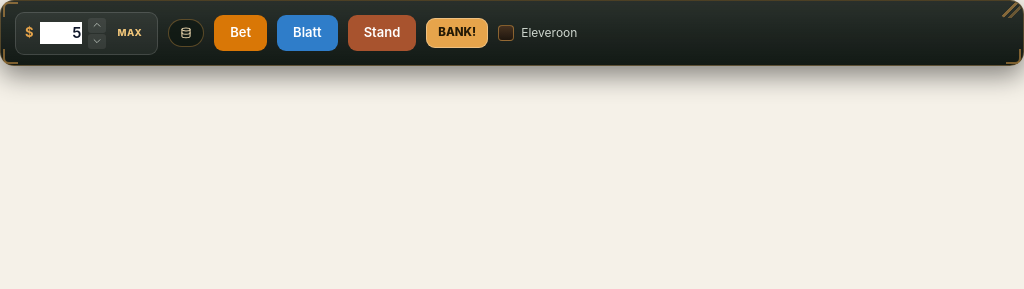
PlayerDock quick-bet chips › mixes denominations the way real chips do
Click the button named "Quick-bet amounts".
click(186, 33)  # box [168,19,204,47]
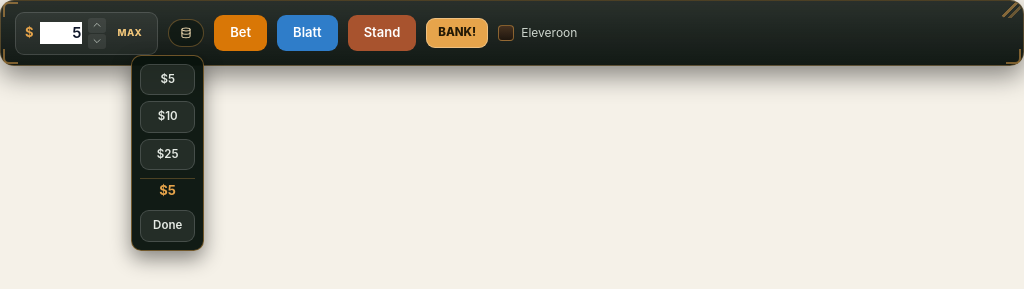
Click the menu item named "Add $25 to the bet".
click(168, 154)  # box [140,138,195,170]
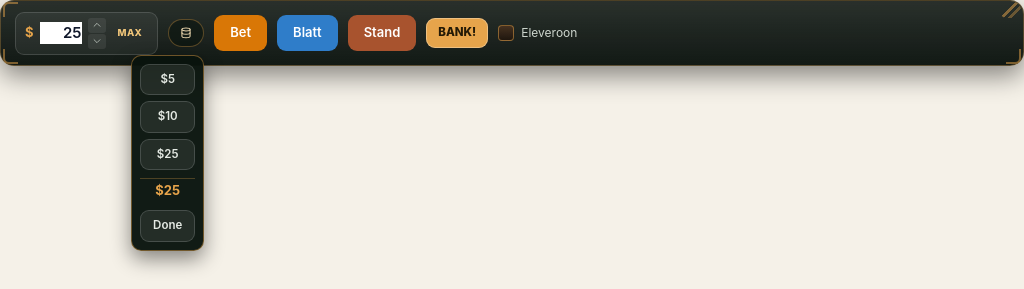
Click the menu item named "Add $10 to the bet".
click(168, 117)  # box [140,101,195,133]
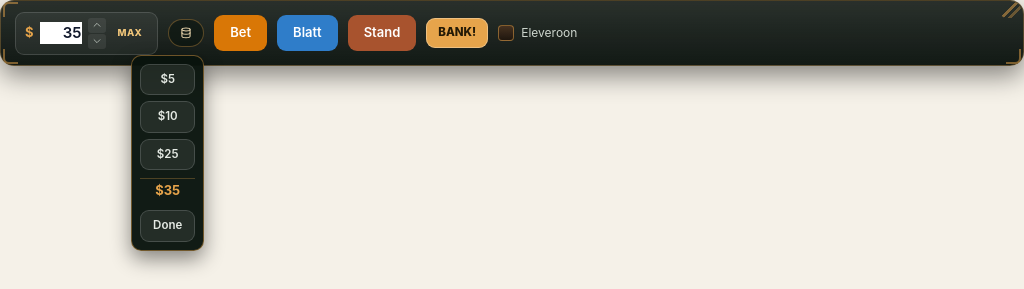
Click the menu item named "Add $5 to the bet".
click(168, 80)  # box [140,64,195,95]
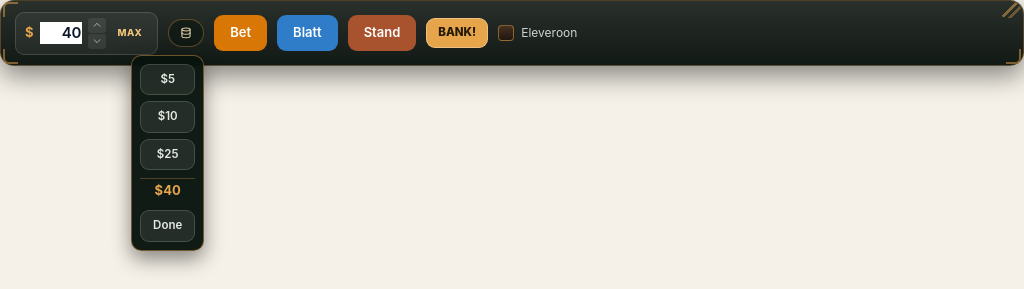
Now the number field named "Bet amount" holds "40", box [40,22,82,44]
